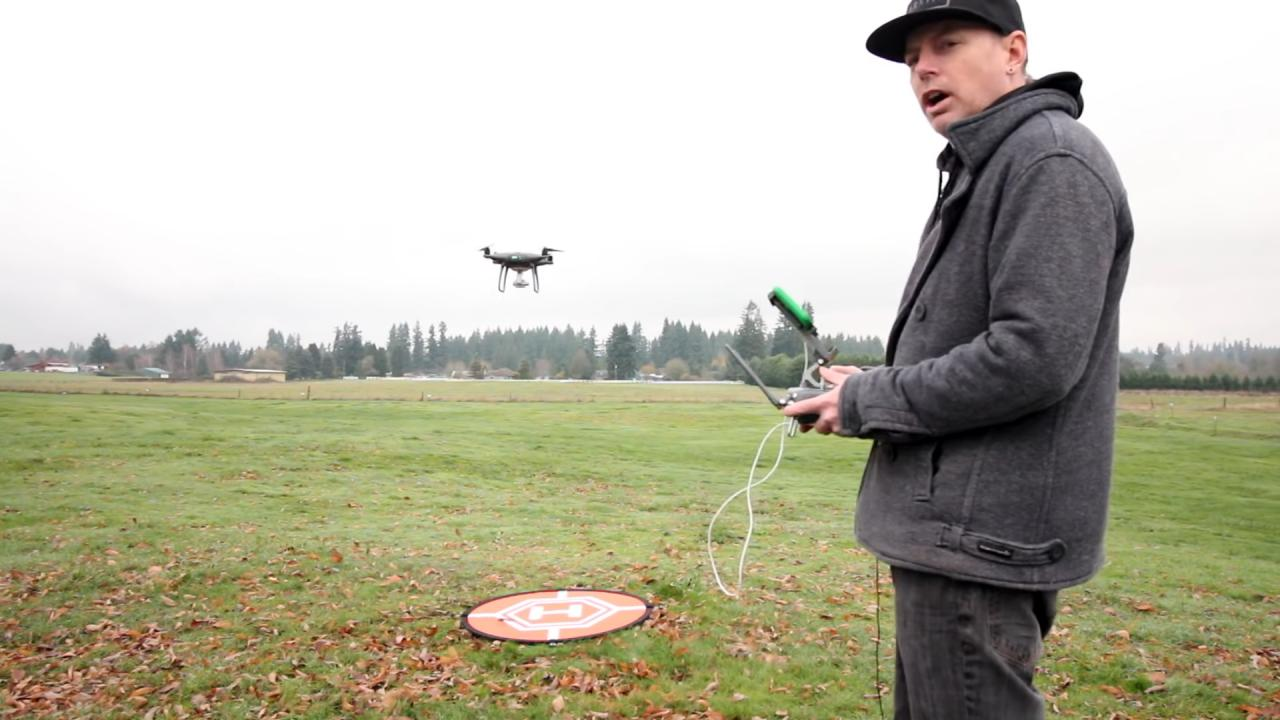Drone: (461, 233, 571, 307)
